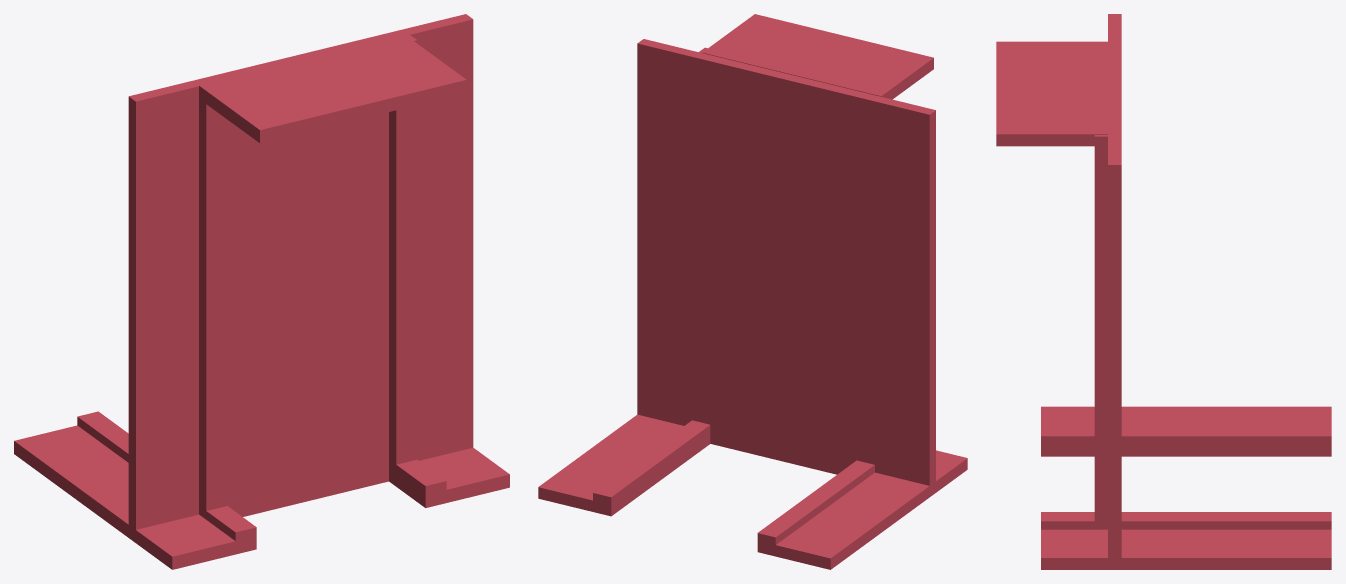
File: Magnificent Densor.glb
3 renders of one model, left to right at view 1: azimuth 30°, elevation 25°; view 2: azimuth 150°, elevation 25°; view 3: azimuth 270°, elevation 25°, orthographic. The views are drawn at different scales.
Visible parts, largest first — view 1: Mesh_Mesh_head_geo.001_lambert2SG.001; view 2: Mesh_Mesh_head_geo.001_lambert2SG.001; view 3: Mesh_Mesh_head_geo.001_lambert2SG.001.
Part boxes in pixels (<box>): Mesh_Mesh_head_geo.001_lambert2SG.001: <box>14,14,509,569</box>; Mesh_Mesh_head_geo.001_lambert2SG.001: <box>538,14,967,569</box>; Mesh_Mesh_head_geo.001_lambert2SG.001: <box>996,14,1331,569</box>.
Bounding box in the file's own units: 0.08 × 0.1001 × 0.075.
